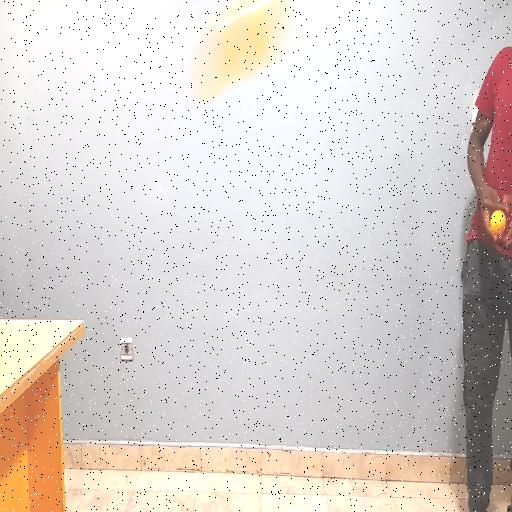plastic-ball: (184, 0, 291, 103)
